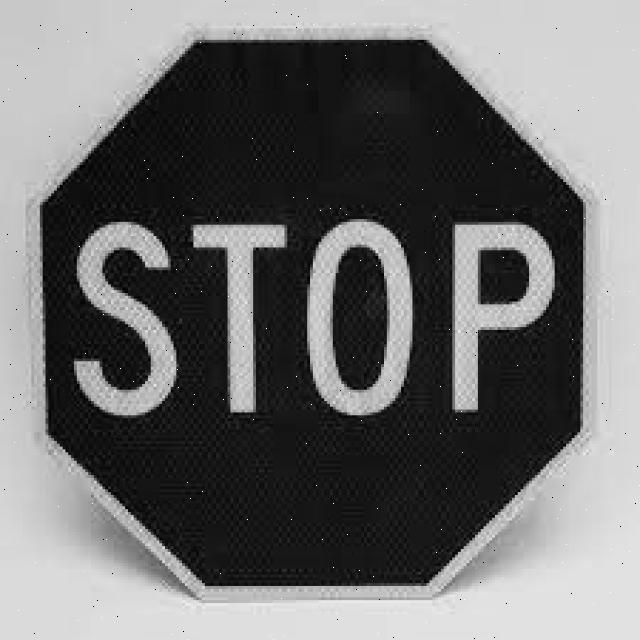stop sign: (34, 28, 598, 600)
